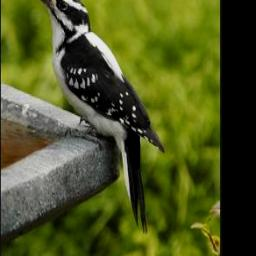Woodpecker: (25, 0, 164, 235)
